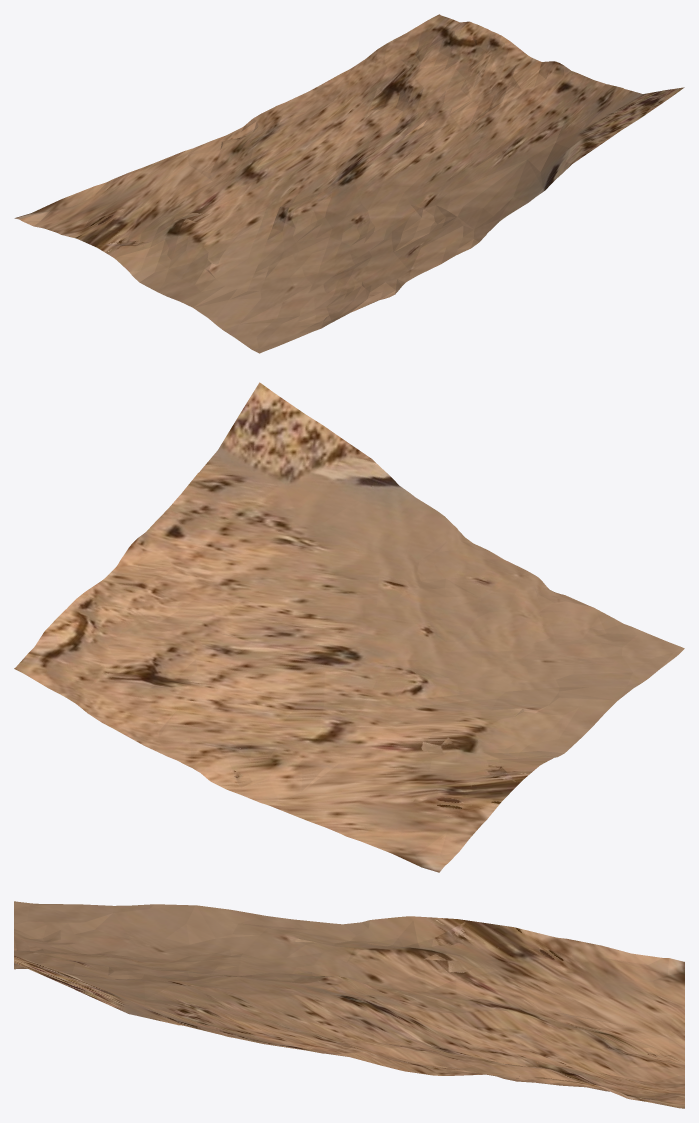
The picture shows the model from 3 angles, top to bottom: view 1: azimuth 30°, elevation 25°; view 2: azimuth 150°, elevation 25°; view 3: azimuth 270°, elevation 25°; orthographic projection. The views are drawn at different scales.
Size of the model in its own units: 1.04 by 0.4855 by 1.04.
2 materials, 2 textured.
